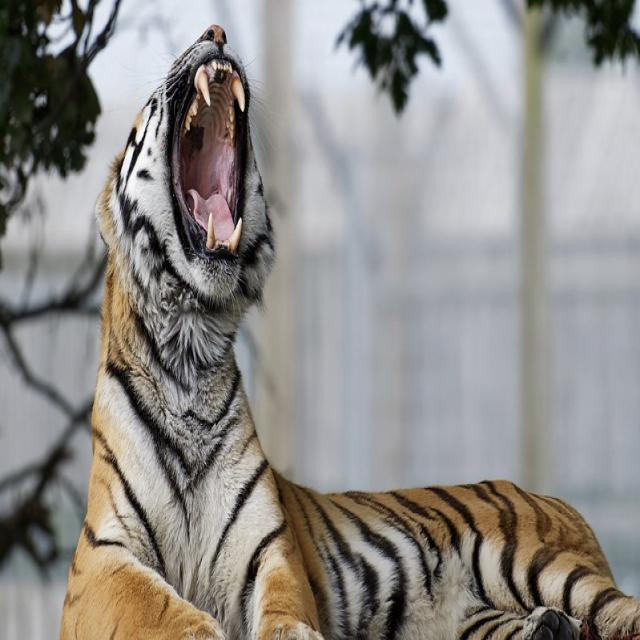Tiger: (58, 19, 637, 634)
